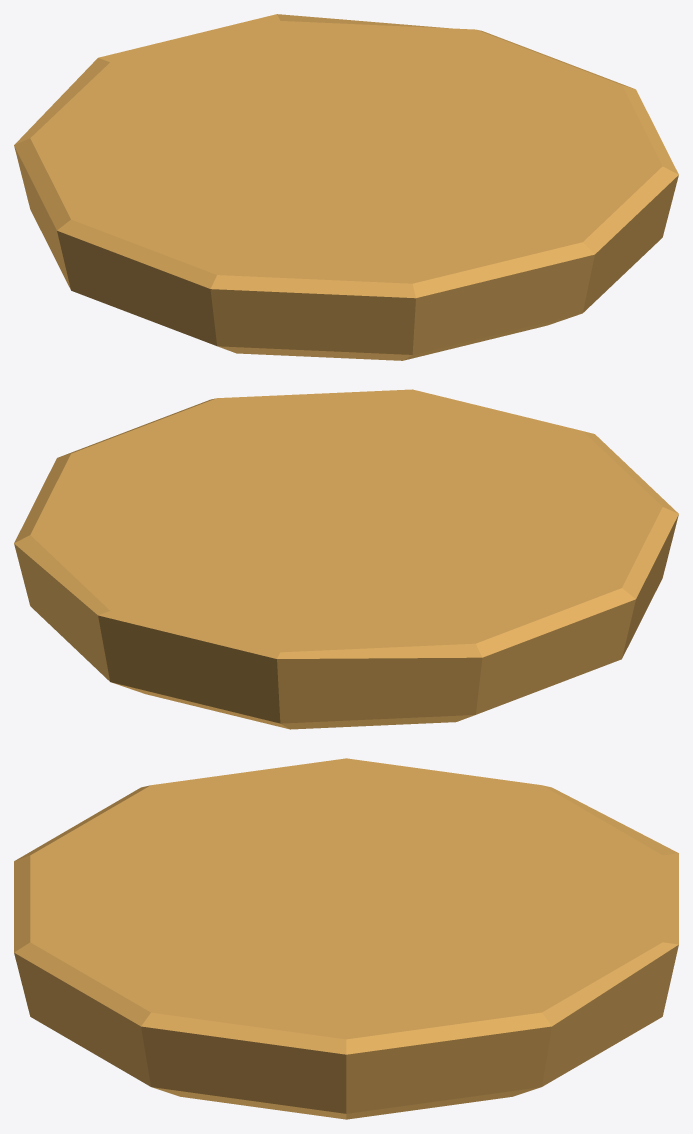
Rendered from bulka.fbx.
3 renders of one model, top to bottom at view 1: azimuth 30°, elevation 25°; view 2: azimuth 150°, elevation 25°; view 3: azimuth 270°, elevation 25°, orthographic. The views are drawn at different scales.
Visible parts, largest first — view 1: pSphere1; view 2: pSphere1; view 3: pSphere1.
Boxes of the visible parts, x1=… form: pSphere1: x1=14, y1=14, x2=678, y2=360; pSphere1: x1=14, y1=389, x2=678, y2=729; pSphere1: x1=14, y1=758, x2=678, y2=1119.
Size of the model in its own units: 2 by 0.4009 by 1.9.
